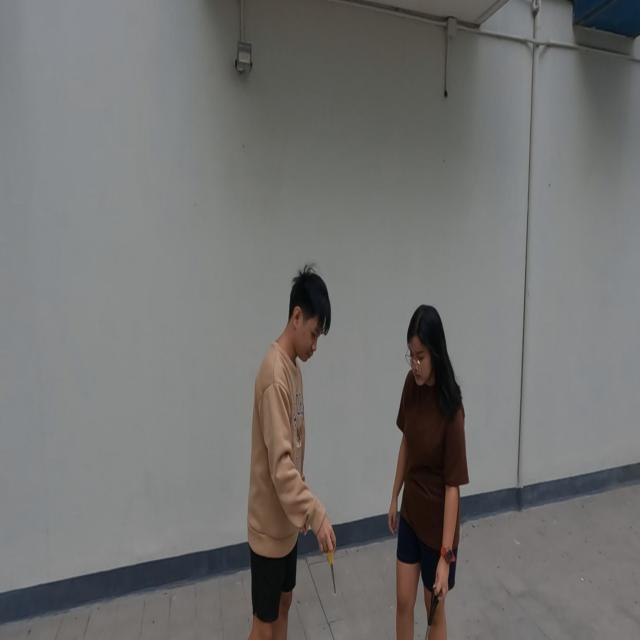scissor: (322, 534, 337, 594), (424, 585, 440, 640)
